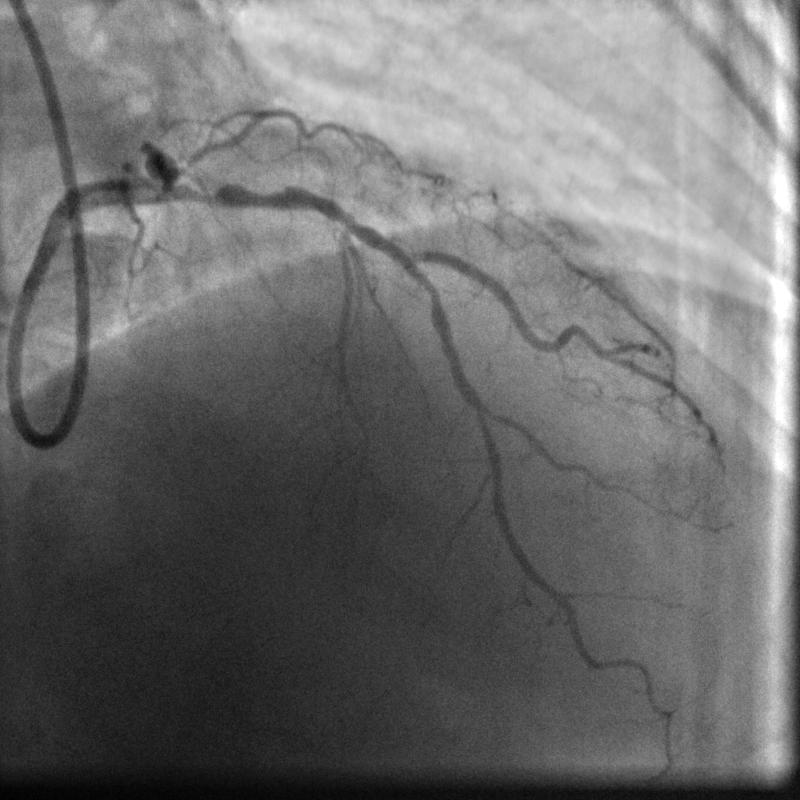Stenosis: (189, 172, 296, 207)
